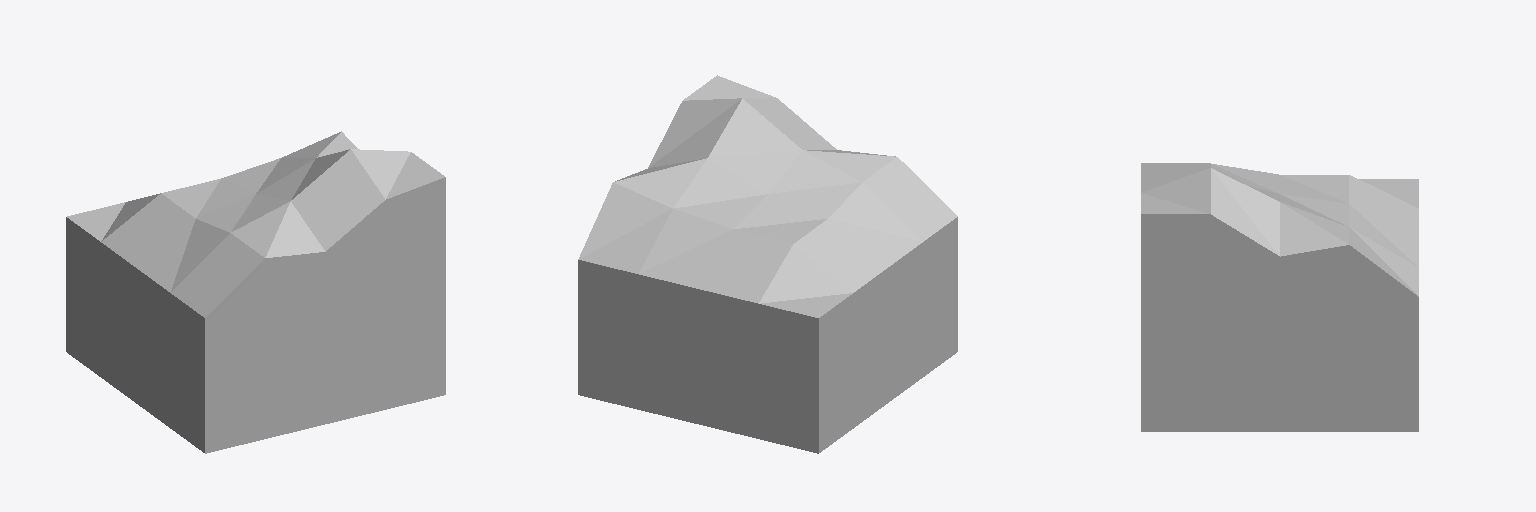
The model's file is half-cube.obj.
3 views of the same model, side by side, from view 1: azimuth 30°, elevation 25°; view 2: azimuth 150°, elevation 25°; view 3: azimuth 270°, elevation 25° (orthographic).
Parts seen in each view (by area): view 1: Cube; view 2: Cube; view 3: Cube.
Part boxes in pixels (bbox=[...]): Cube: bbox=[66, 131, 445, 453]; Cube: bbox=[578, 75, 957, 453]; Cube: bbox=[1141, 163, 1418, 431].
Size of the model in its own units: 1 by 0.9341 by 1.